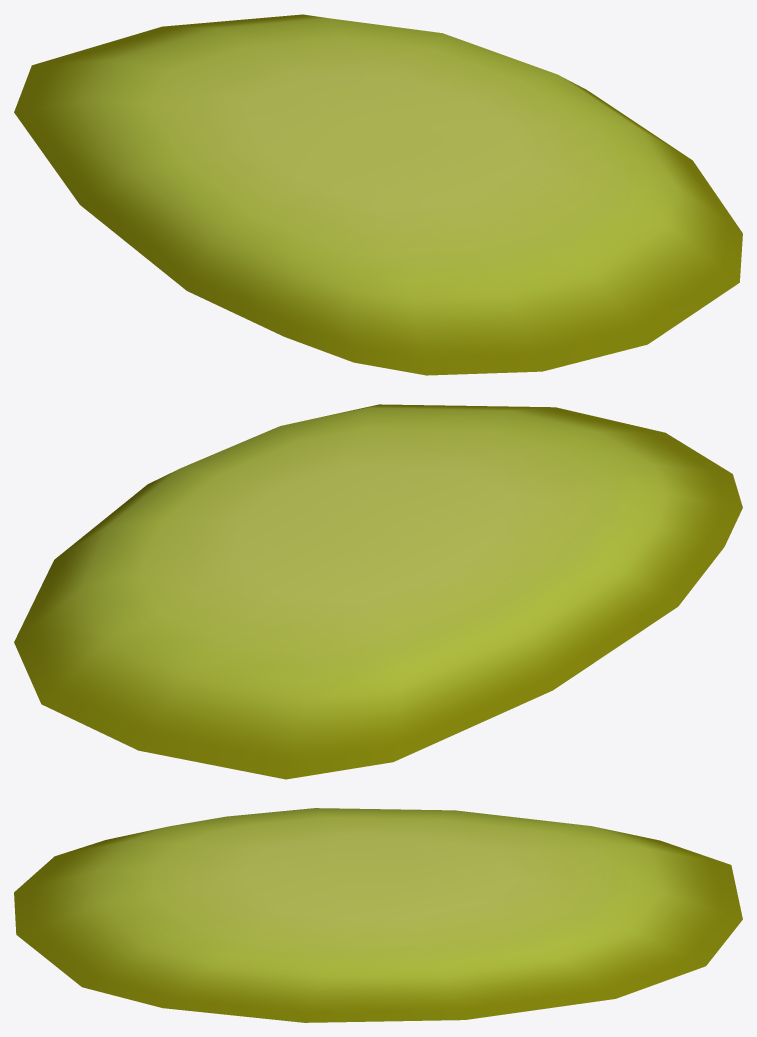
File: grassTop_C.fbx
The picture shows the model from 3 angles, top to bottom: view 1: azimuth 30°, elevation 25°; view 2: azimuth 150°, elevation 25°; view 3: azimuth 270°, elevation 25°; orthographic projection. The views are drawn at different scales.
Visible parts, largest first — view 1: grassTop_C; view 2: grassTop_C; view 3: grassTop_C.
Boxes of the visible parts, <box> form: grassTop_C: <box>14,14,742,375</box>; grassTop_C: <box>14,404,742,779</box>; grassTop_C: <box>14,808,742,1022</box>.
Size of the model in its own units: 1570 by 150 by 2377.
